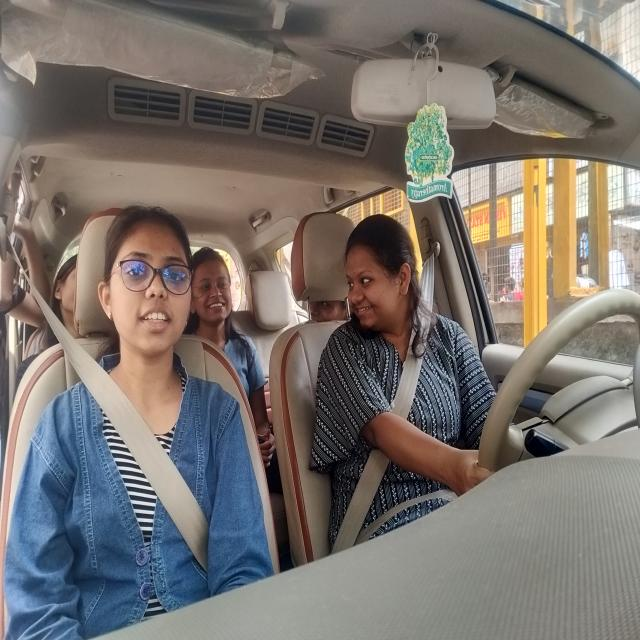LeftRight: (341, 216, 429, 351)
person: (92, 180, 200, 396), (186, 231, 245, 352), (46, 235, 87, 351)
